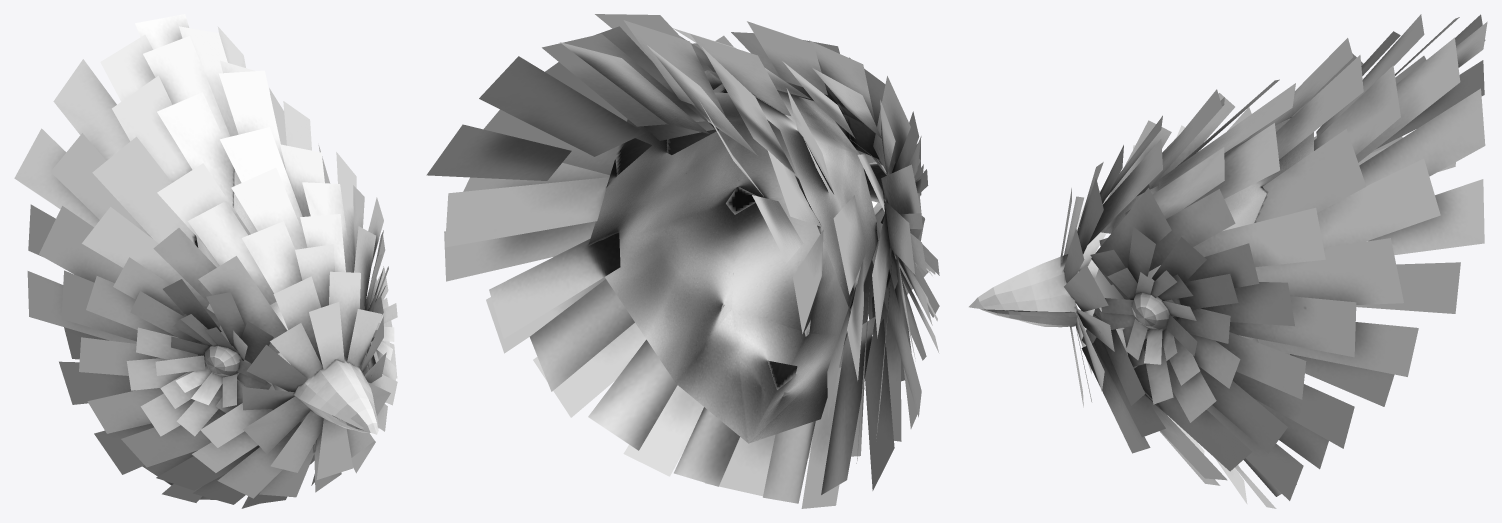
The model's file is Chickadee_blended_export.fbx.
The picture shows the model from 3 angles, left to right: view 1: azimuth 30°, elevation 25°; view 2: azimuth 150°, elevation 25°; view 3: azimuth 270°, elevation 25°; orthographic projection. The views are drawn at different scales.
Parts seen in each view (by area): view 1: Chickadee_blended; view 2: Chickadee_blended; view 3: Chickadee_blended.
Boxes of the visible parts, x1,y1,x2,y2 form: Chickadee_blended: [14, 14, 397, 508]; Chickadee_blended: [426, 14, 939, 508]; Chickadee_blended: [969, 14, 1487, 508].
Bounding box in the file's own units: 12.19 × 15.45 × 15.76.
